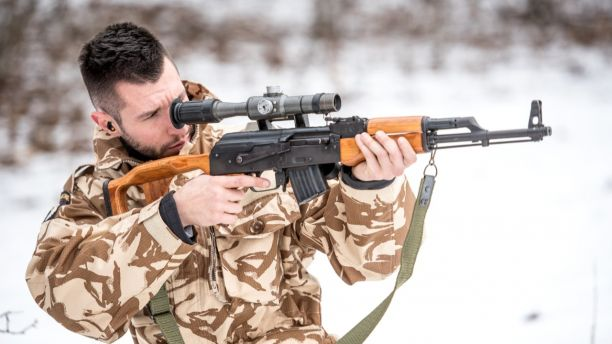Rifle: (100, 92, 559, 217)
